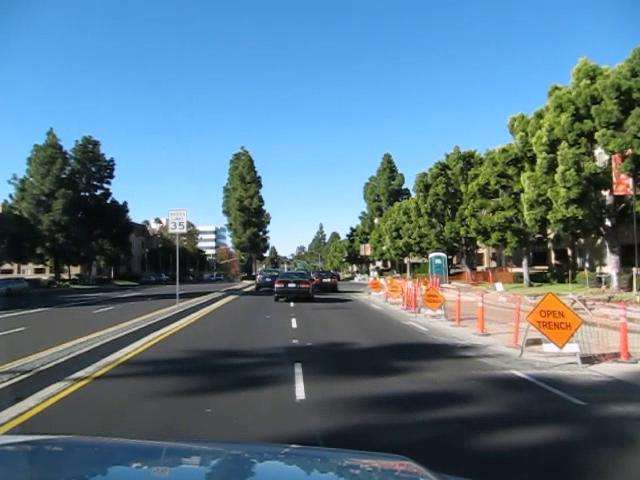speedLimit35: (167, 208, 187, 232)
